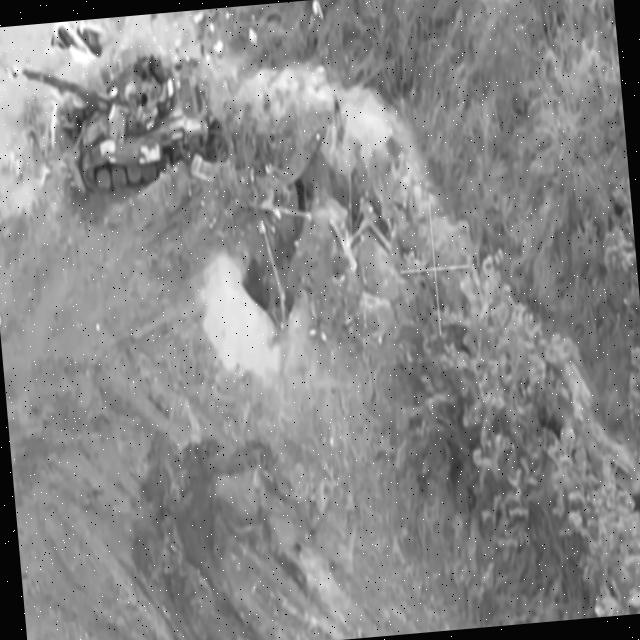MBT: (20, 40, 216, 203)
